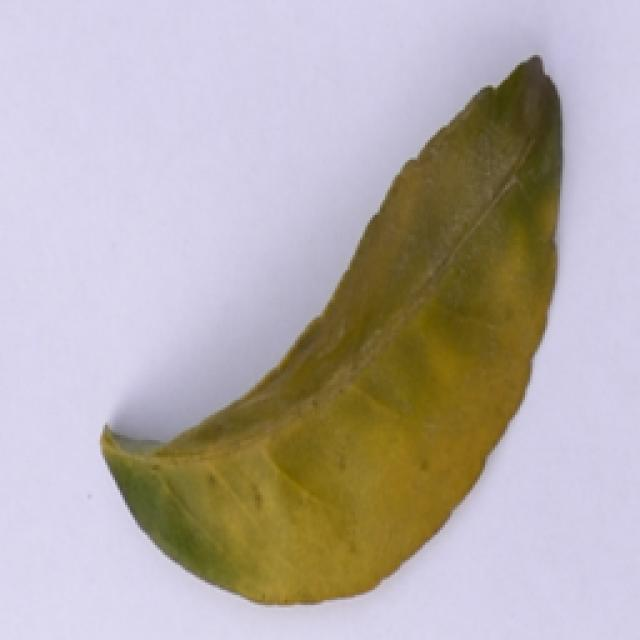greening: (82, 53, 575, 619)
